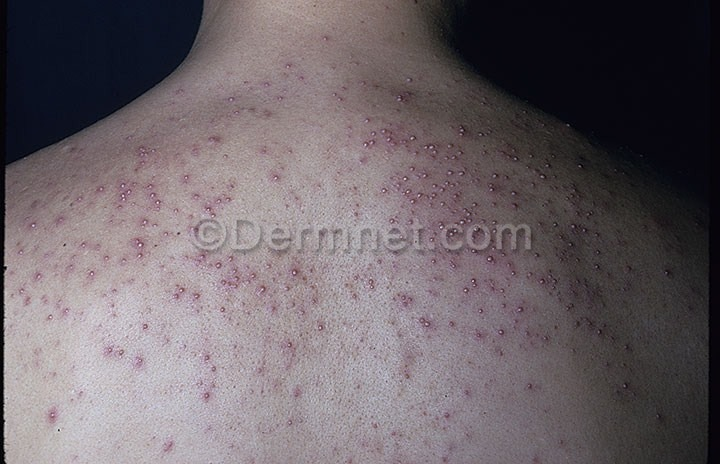Melasma: (111, 0, 720, 179), (326, 59, 428, 216), (292, 25, 393, 53)
